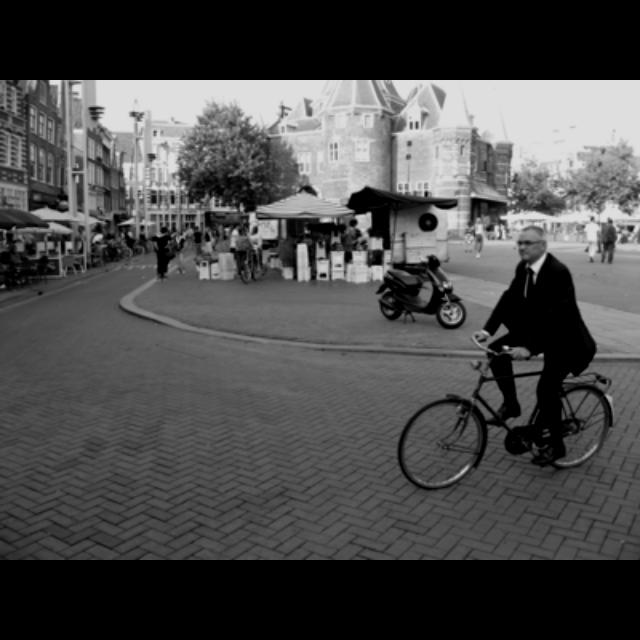Without Helmet: (511, 224, 554, 262)
